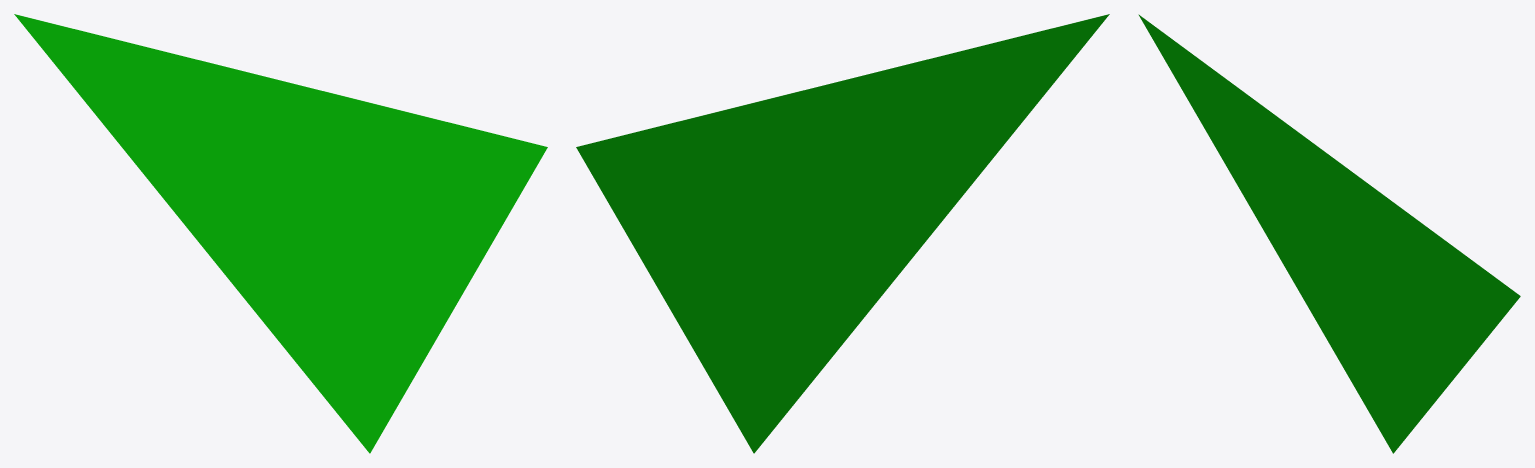
File: Filler_DDCap_LeftFloor.glb
3 renders of one model, left to right at view 1: azimuth 30°, elevation 25°; view 2: azimuth 150°, elevation 25°; view 3: azimuth 330°, elevation 25°, orthographic. The views are drawn at different scales.
Parts seen in each view (by area): view 1: Filler_DDCap_LeftFloor; view 2: Filler_DDCap_LeftFloor; view 3: Filler_DDCap_LeftFloor.
Part boxes in pixels (box(x1,y1,x2,y2)): Filler_DDCap_LeftFloor: box(14, 14, 547, 453); Filler_DDCap_LeftFloor: box(576, 14, 1109, 453); Filler_DDCap_LeftFloor: box(1138, 14, 1520, 453).
Bounding box in the file's own units: 0.15 × 0.1414 × 4.77e-06.
